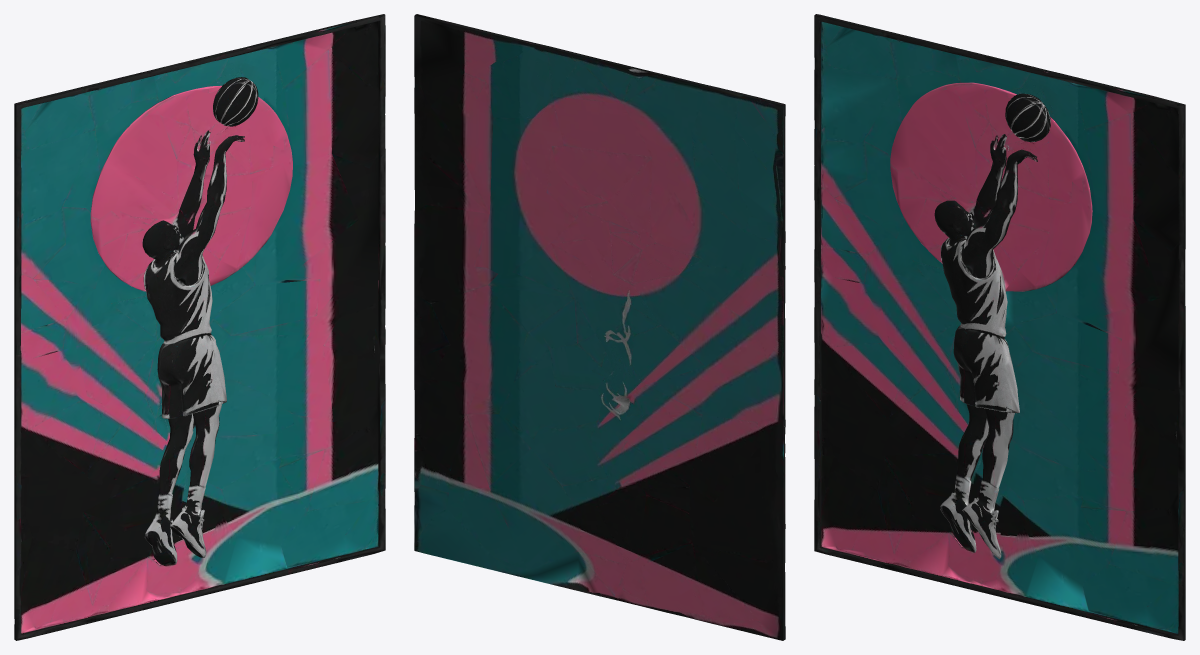
The model's file is mobile.glb.
3 views of the same model, side by side, from view 1: azimuth 30°, elevation 25°; view 2: azimuth 150°, elevation 25°; view 3: azimuth 330°, elevation 25° (orthographic).
Visible parts, largest first — view 1: d-poster; view 2: d-poster; view 3: d-poster.
Part boxes in pixels (x1,y1,x2,y2): d-poster: (14,14,385,640); d-poster: (414,14,785,640); d-poster: (814,14,1185,640).
Size of the model in its own units: 0.5999 by 0.8316 by 0.0226.
Materials: 1 (1 with a texture image).
